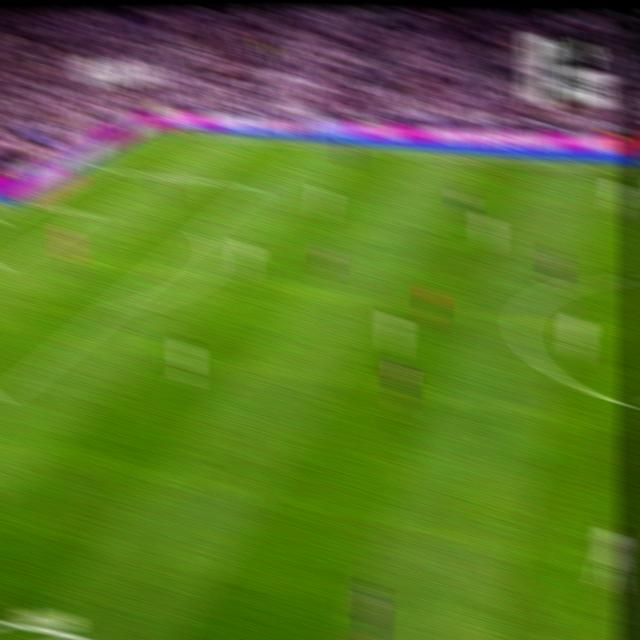bigarea_top_inner: (247, 176, 265, 195)
bigarea_top_outter: (93, 158, 110, 174)
bottom_arc_area_intersection: (101, 298, 120, 319)
corner: (155, 123, 173, 138)
smallarea_top_inner: (80, 204, 97, 221)
top_arc_area_intersection: (191, 224, 209, 243)
